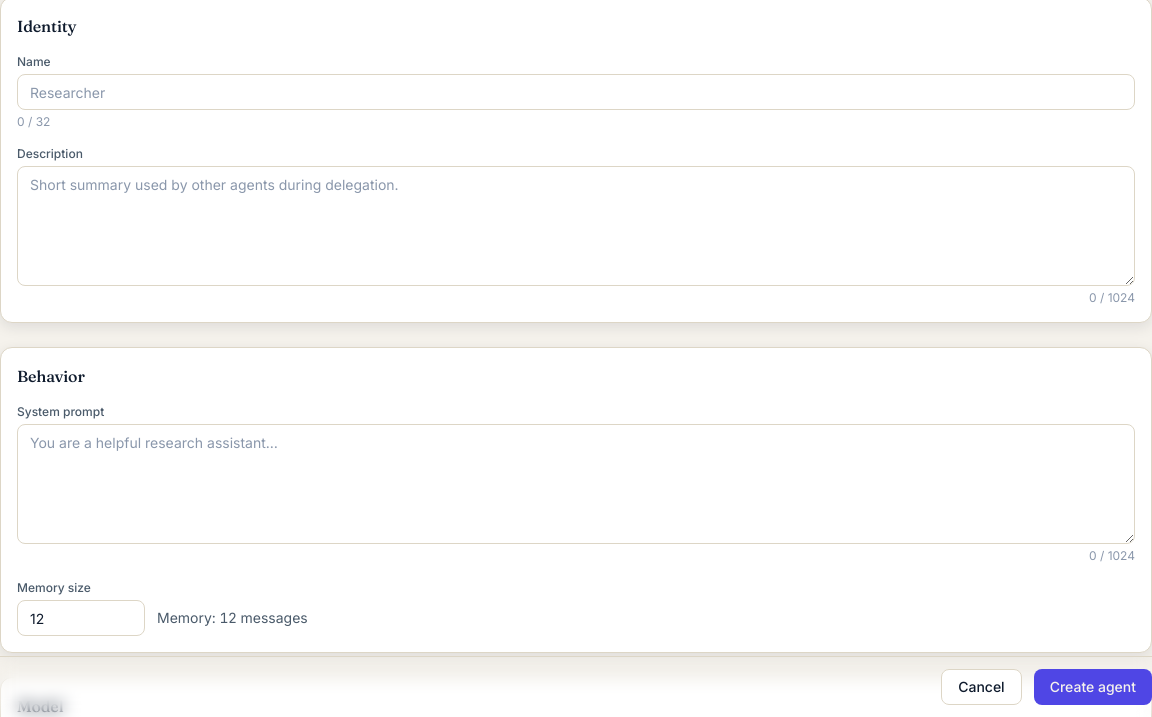
Scenario: AgentForm — create mode › 409 NESTED_TEAM_FORBIDDEN: surfaces an error in the Team section
Step 1. Type "a" into the field labelled "Name" → [576, 92], box [17,74,1135,110]
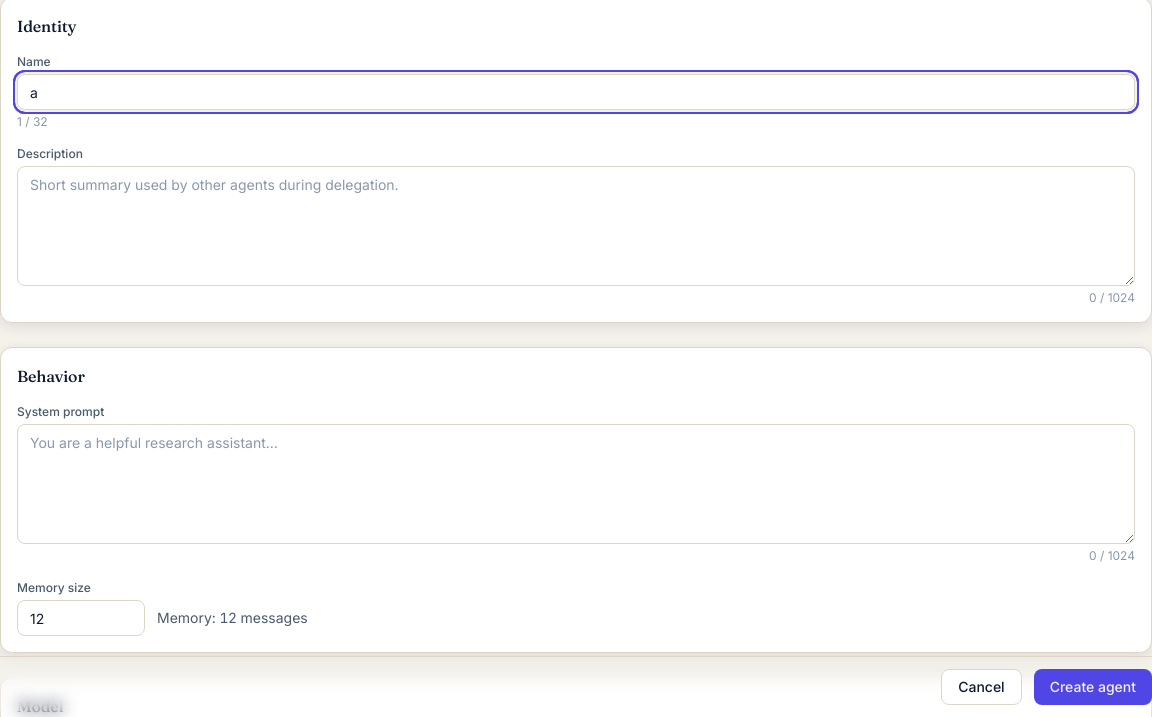
Step 2. Type "d" into the text box labelled "Description" → [576, 226], box [17,166,1135,286]
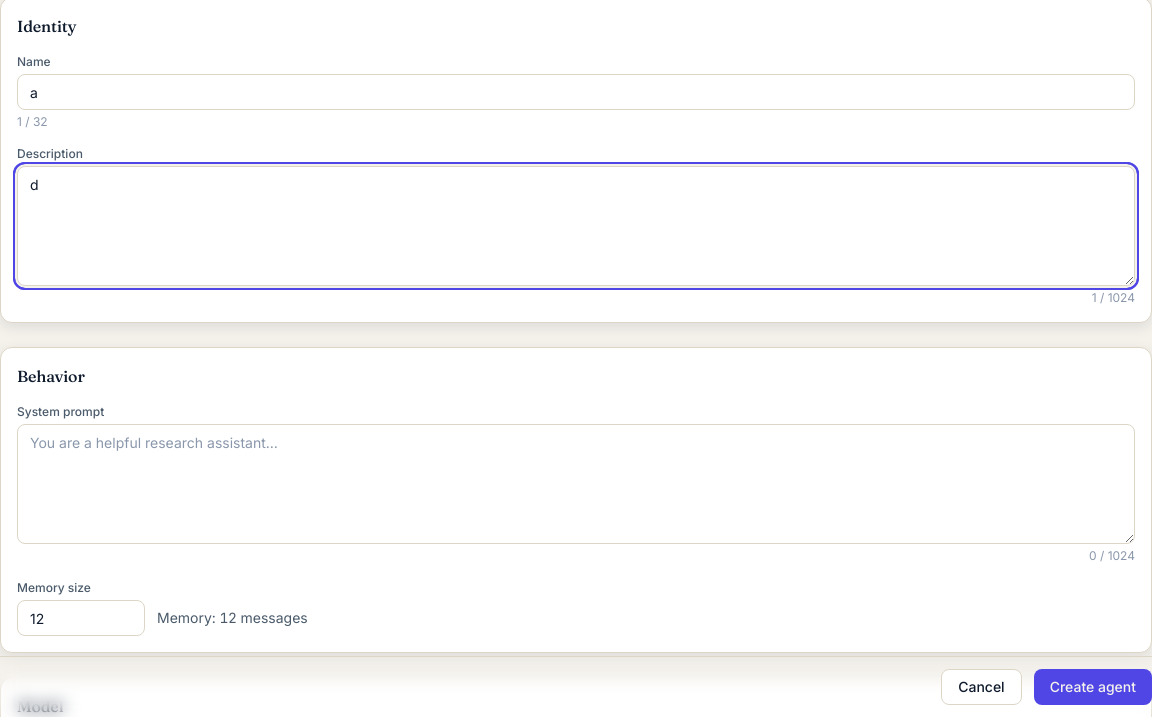
Step 3. Type "s" into the text box labelled "System prompt" → [576, 484], box [17,424,1135,544]
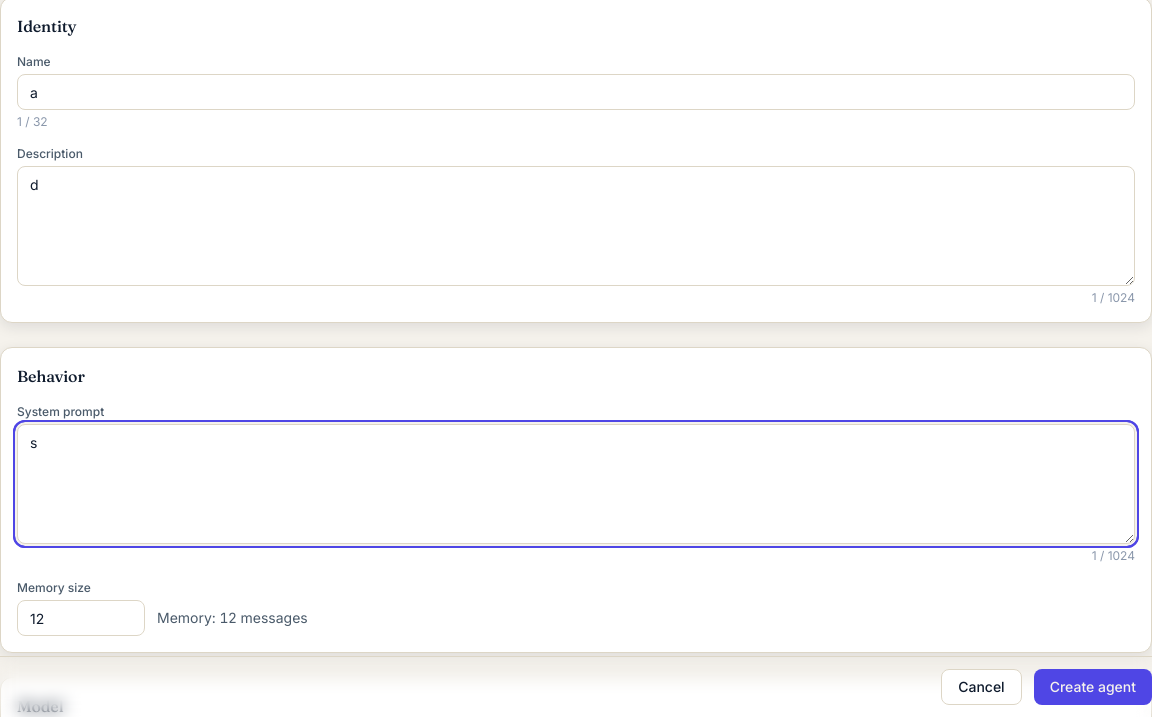
Step 4. Click the button "Create agent" → [1093, 687], box [1034,669,1151,705]
(page scrolled)
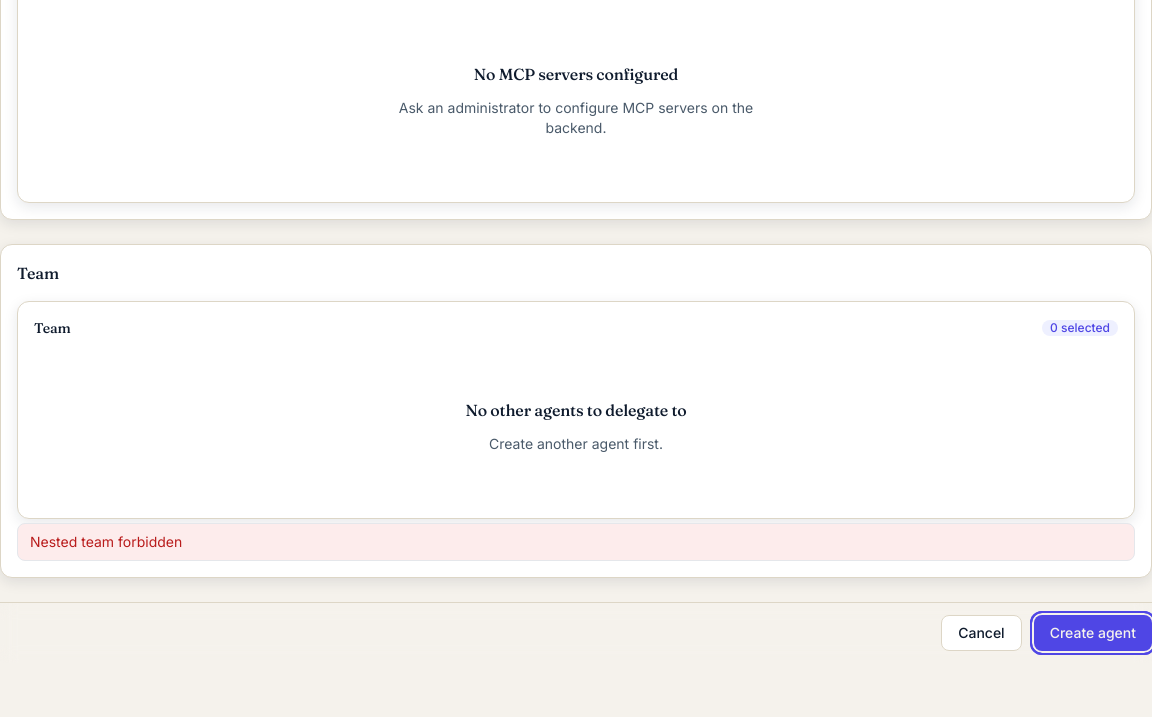
Expected: the text "Nested team forbidden" is shown, [17,523,1135,561]
